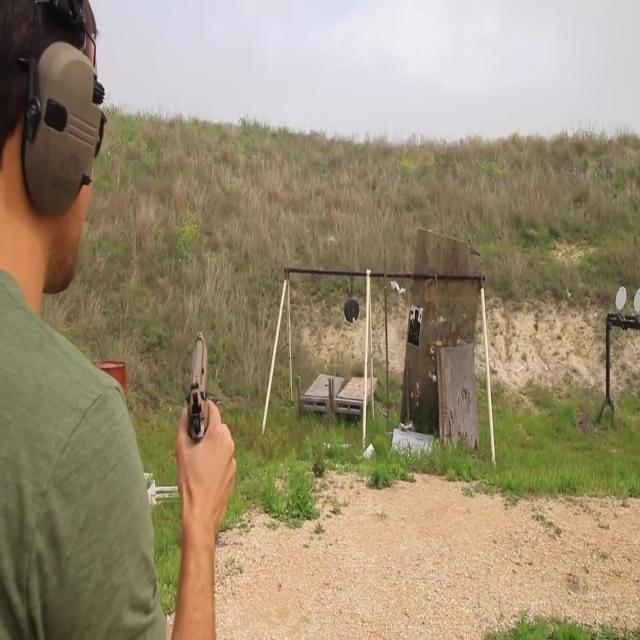Weapon: (170, 312, 227, 462)
